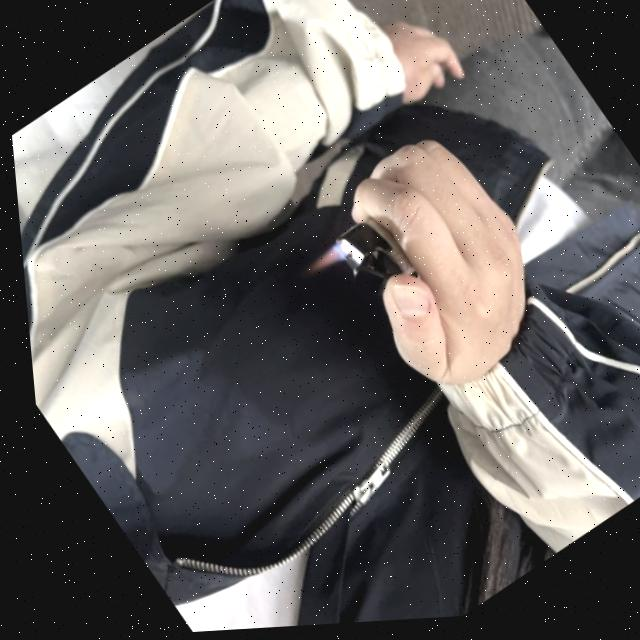Fire: (297, 247, 343, 284)
